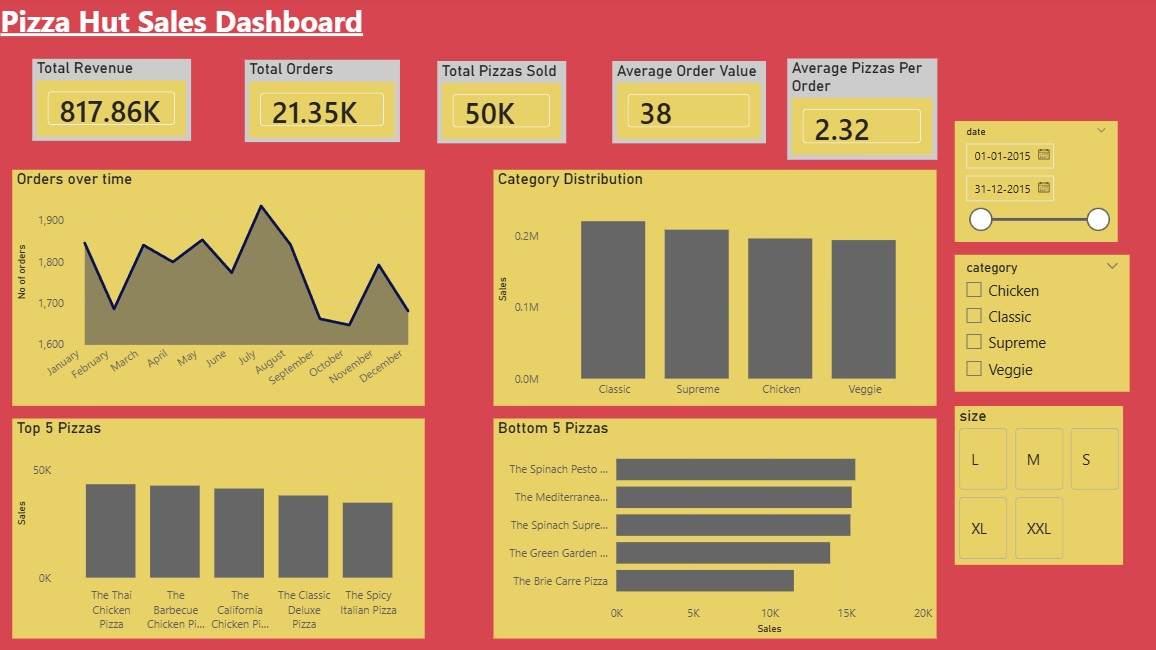

Layout of this report page (visuals, bound fields, positions):
{"tool":"powerbi","page":{"name":"Overview","canvas":[1280,720],"ordinal":0},"visuals":[{"type":"cardVisual","title":"Total Revenue","fields":{"Data":["Sum(order_details.Sales)"]},"box":[39.2,68.9,174.3,90.5],"z":0},{"type":"cardVisual","title":"Total Orders","fields":{"Data":["Count(orders.order_id)"]},"box":[273.1,70,170.2,90.6],"z":1000},{"type":"cardVisual","title":"Total Pizzas Sold","fields":{"Data":["Sum(order_details.quantity)"]},"box":[484.4,71.4,141.3,90.6],"z":2000},{"type":"cardVisual","title":"Average Order Value","fields":{"Data":["orders.Avg_ord_val"]},"box":[676.5,71.4,168.8,90.6],"z":3000},{"type":"cardVisual","title":"Average Pizzas Per Order","fields":{"Data":["order_details.Avg_piz_per_ord"]},"box":[868.6,68.6,164.7,111.1],"z":4000},{"type":"slicer","fields":{"Values":["orders.date"]},"box":[1052.7,137.8,178.4,132.4],"z":5000},{"type":"slicer","fields":{"Values":["pizza_types.category"]},"box":[1052.7,283.8,191.9,150],"z":6000},{"type":"advancedSlicerVisual","fields":{"Values":["pizzas.size"]},"box":[1052.7,450,185.1,174.3],"z":7000},{"type":"areaChart","title":"Orders over time","fields":{"Category":["orders.date.Variation.Date Hierarchy.Month"],"Y":["Count(order_details.order_id)"]},"box":[17.6,190.5,452.7,259.5],"z":8000},{"type":"columnChart","title":"Category Distribution","fields":{"Y":["Sum(order_details.Sales)"],"Category":["pizza_types.category"]},"box":[545.9,190.5,486.5,259.5],"z":9000},{"type":"columnChart","title":"Top 5 Pizzas","fields":{"Category":["pizza_types.name"],"Y":["Sum(order_details.Sales)"]},"box":[17.6,463.5,452.7,241.9],"z":10000},{"type":"barChart","title":"Bottom 5 Pizzas","fields":{"Category":["pizza_types.name"],"Y":["Sum(order_details.Sales)"]},"box":[545.9,463.5,486.5,241.9],"z":11000},{"type":"textbox","box":[0,0,425.7,68.9],"z":13000}]}

Visuals, with their boxes in screenshot pixels (x1, y1, x2, y2), scaled from the page's 1280x720 canvas onto the 1156x650 screenshot:
"Total Revenue" cardVisual: <region>35, 62, 193, 144</region>
"Total Orders" cardVisual: <region>247, 63, 400, 145</region>
"Total Pizzas Sold" cardVisual: <region>437, 64, 565, 146</region>
"Average Order Value" cardVisual: <region>611, 64, 763, 146</region>
"Average Pizzas Per Order" cardVisual: <region>784, 62, 933, 162</region>
slicer - orders.date: <region>951, 124, 1112, 244</region>
slicer - pizza_types.category: <region>951, 256, 1124, 392</region>
advancedSlicerVisual - pizzas.size: <region>951, 406, 1118, 564</region>
"Orders over time" areaChart: <region>16, 172, 425, 406</region>
"Category Distribution" columnChart: <region>493, 172, 932, 406</region>
"Top 5 Pizzas" columnChart: <region>16, 418, 425, 637</region>
"Bottom 5 Pizzas" barChart: <region>493, 418, 932, 637</region>
textbox: <region>0, 0, 384, 62</region>
